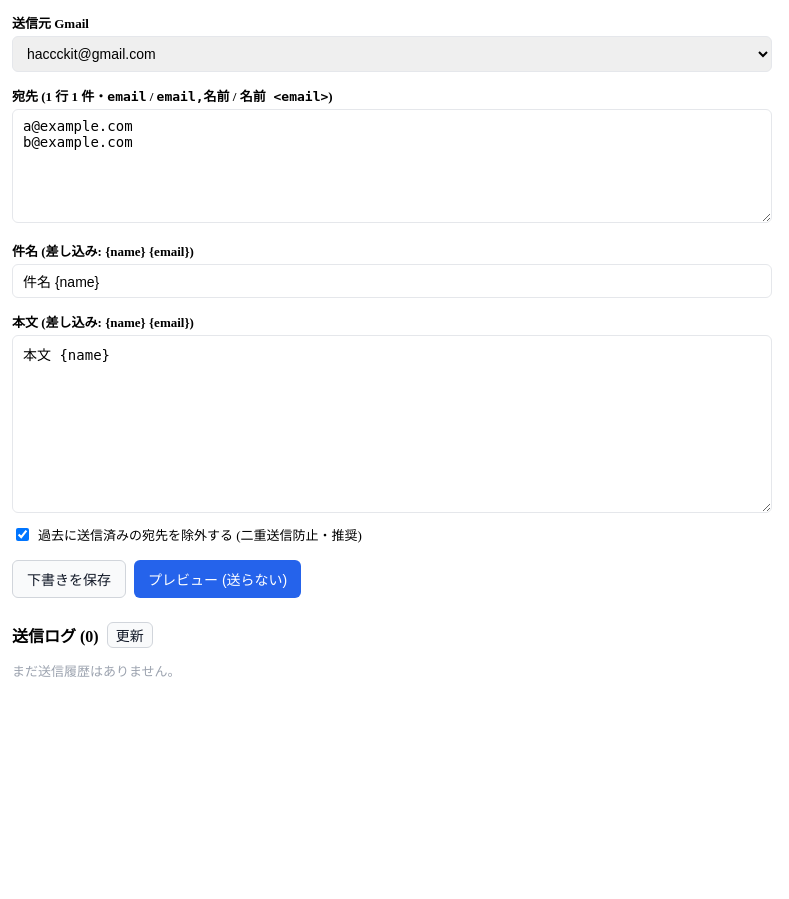
Scenario: ParticipantBroadcastMainTab smoke › プレビューで宛先数を表示し、confirm 前は送信ボタンが無効
Click the button "プレビュー (送らない)" at [218, 579], box [134,560,301,598]
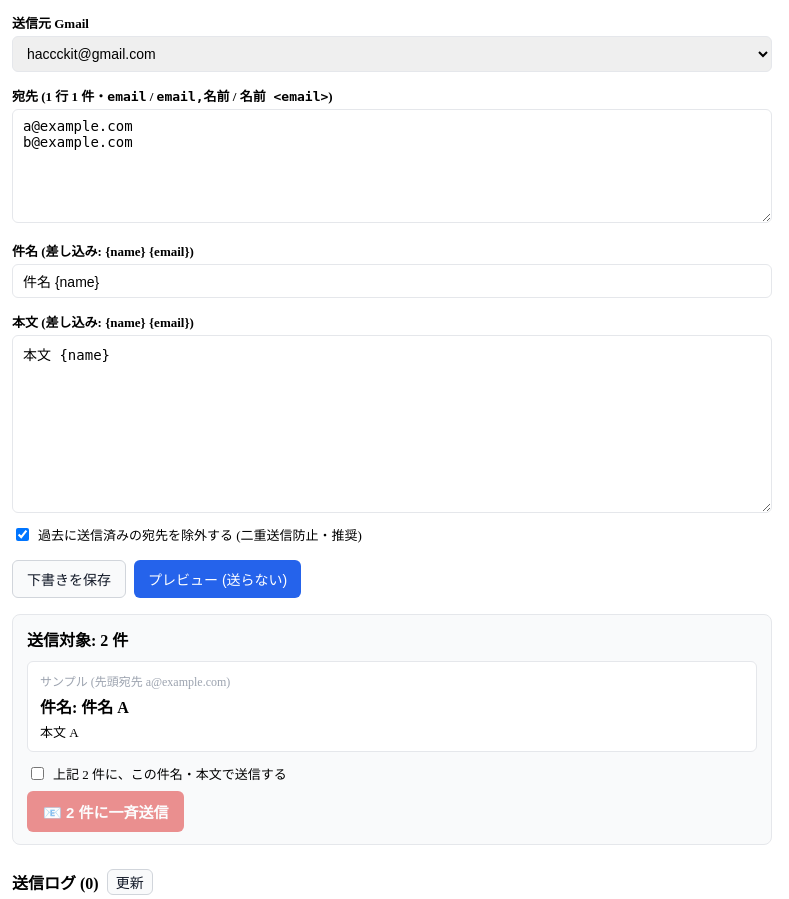
Now the text "送信対象: 2 件" is shown, box [27,632,128,649]
Now the button "📧 2 件に一斉送信" is disabled, box [27,791,184,832]
